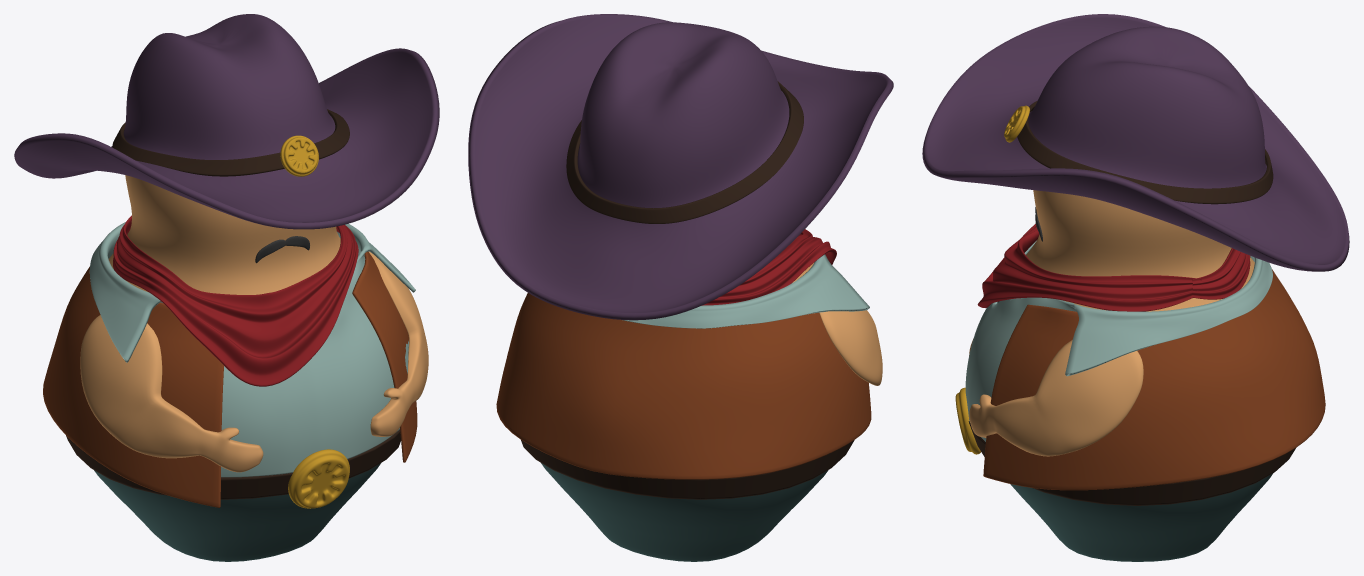
Rendered from howdy.gltf.
3 views of the same model, side by side, from view 1: azimuth 30°, elevation 25°; view 2: azimuth 150°, elevation 25°; view 3: azimuth 270°, elevation 25° (orthographic).
Parts seen in each view (by area): view 1: hat, shirt, vest, scarf, arms, head, body, hatBelt, belt, beltAccessory, hatAccessory, mustache; view 2: hat, vest, body, shirt, belt, hatBelt, scarf, arms; view 3: hat, vest, head, shirt, arms, body, scarf, belt, hatBelt, beltAccessory, hatAccessory.
Boxes of the visible parts, <box> form: hat: <box>14,14,439,229</box>; shirt: <box>89,222,415,477</box>; vest: <box>43,251,417,507</box>; scarf: <box>113,215,358,386</box>; arms: <box>80,251,428,472</box>; head: <box>108,175,340,294</box>; body: <box>94,463,380,561</box>; hatBelt: <box>112,109,349,176</box>; belt: <box>66,429,400,499</box>; beltAccessory: <box>288,449,349,508</box>; hatAccessory: <box>280,135,318,176</box>; mustache: <box>255,236,309,263</box>; hat: <box>468,14,893,320</box>; vest: <box>496,293,871,479</box>; body: <box>541,463,828,561</box>; shirt: <box>622,254,869,328</box>; belt: <box>521,440,854,499</box>; hatBelt: <box>566,81,803,223</box>; scarf: <box>702,229,836,305</box>; arms: <box>819,310,882,385</box>; hat: <box>922,14,1349,271</box>; vest: <box>983,269,1325,490</box>; head: <box>1026,190,1254,311</box>; shirt: <box>965,240,1272,441</box>; arms: <box>969,339,1143,456</box>; body: <box>997,301,1272,561</box>; scarf: <box>977,224,1250,311</box>; belt: <box>968,421,1295,505</box>; hatBelt: <box>1017,101,1273,204</box>; beltAccessory: <box>955,387,980,454</box>; hatAccessory: <box>1004,105,1029,142</box>.
Size of the model in its own units: 3.18 by 4.1 by 3.29.
